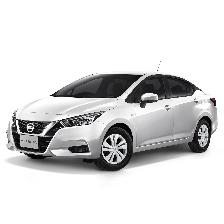NON-EV: (7, 60, 219, 172)
